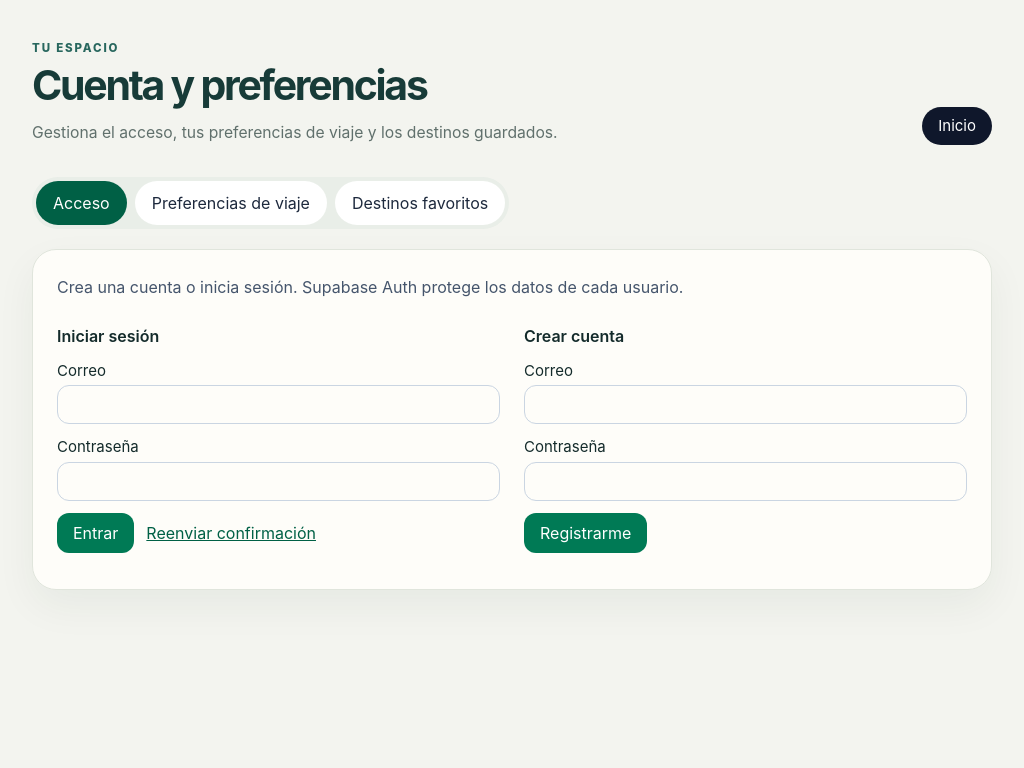
autenticación de Cuenta › mantiene formularios independientes y no revela el estado de una cuenta ante credenciales inválidas
Expected: the button "Preferencias de viaje" is shown, [135,181,327,225]
Expected: the button "Destinos favoritos" is shown, [335,181,505,225]
In the field labelled "Correo" below "Iniciar sesión": {"x": 278, "y": 405} [57,385,500,424], type "acceso@example.com"
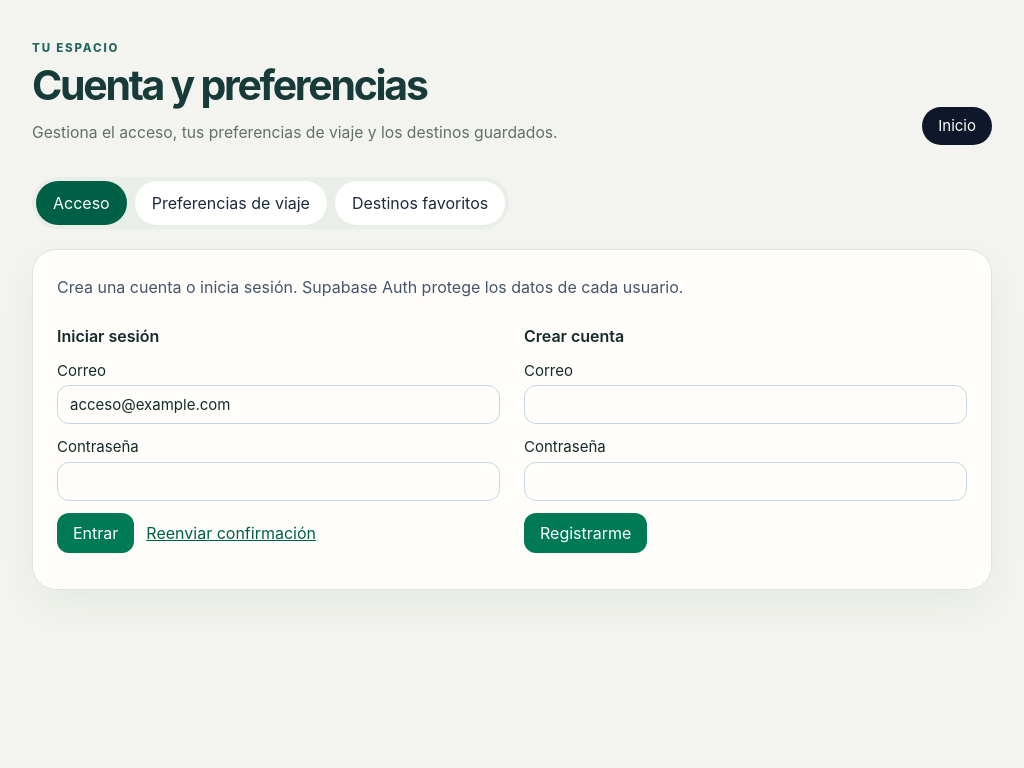
In the password field labelled "Contraseña" below "Iniciar sesión": {"x": 278, "y": 482} [57,462,500,501], type "clave-prueba-123"
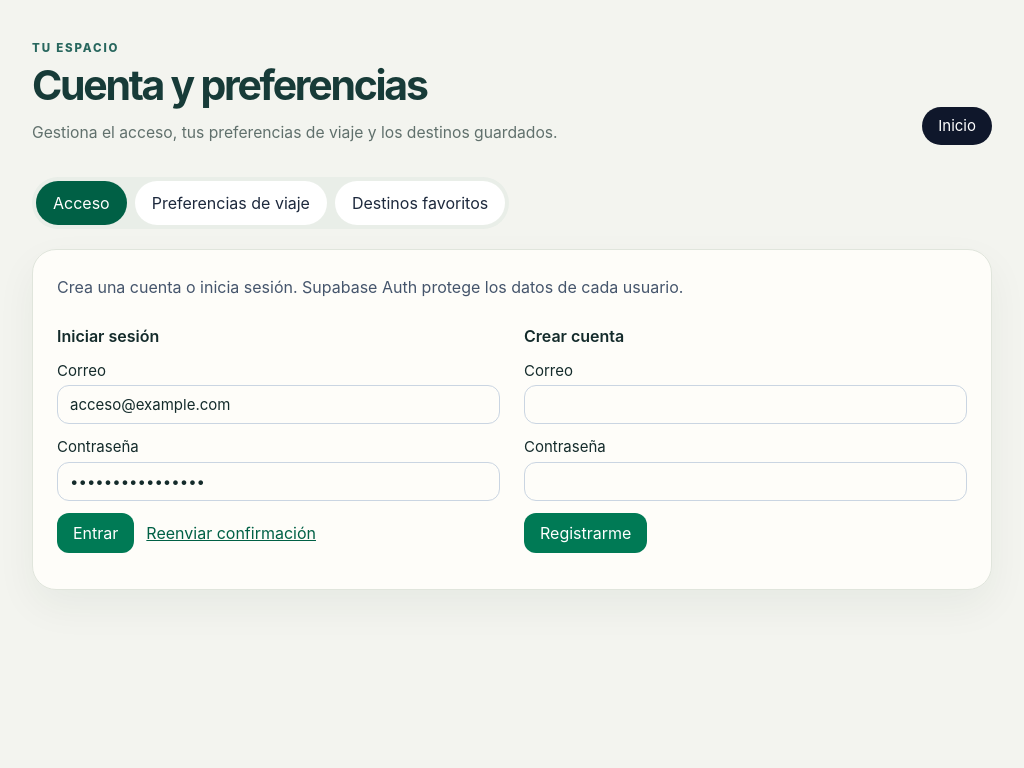
In the field labelled "Correo" below "Crear cuenta": {"x": 746, "y": 405} [524,385,967,424], type "registro@example.com"
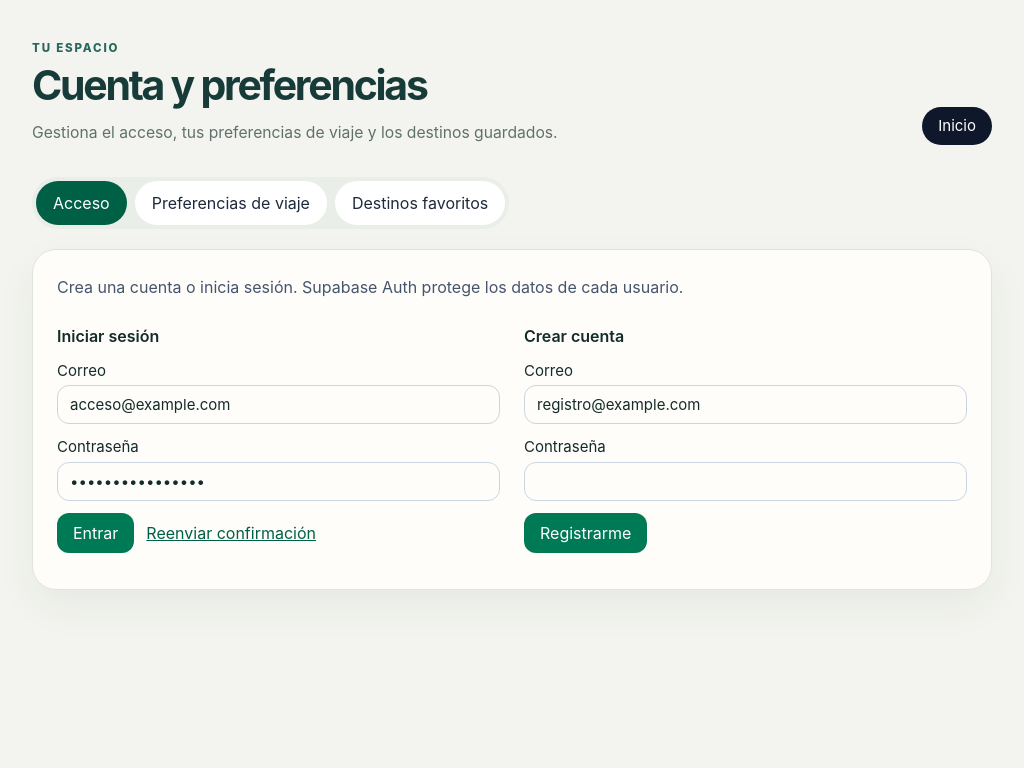
In the password field labelled "Contraseña" below "Crear cuenta": {"x": 746, "y": 482} [524,462,967,501], type "clave-prueba-123"
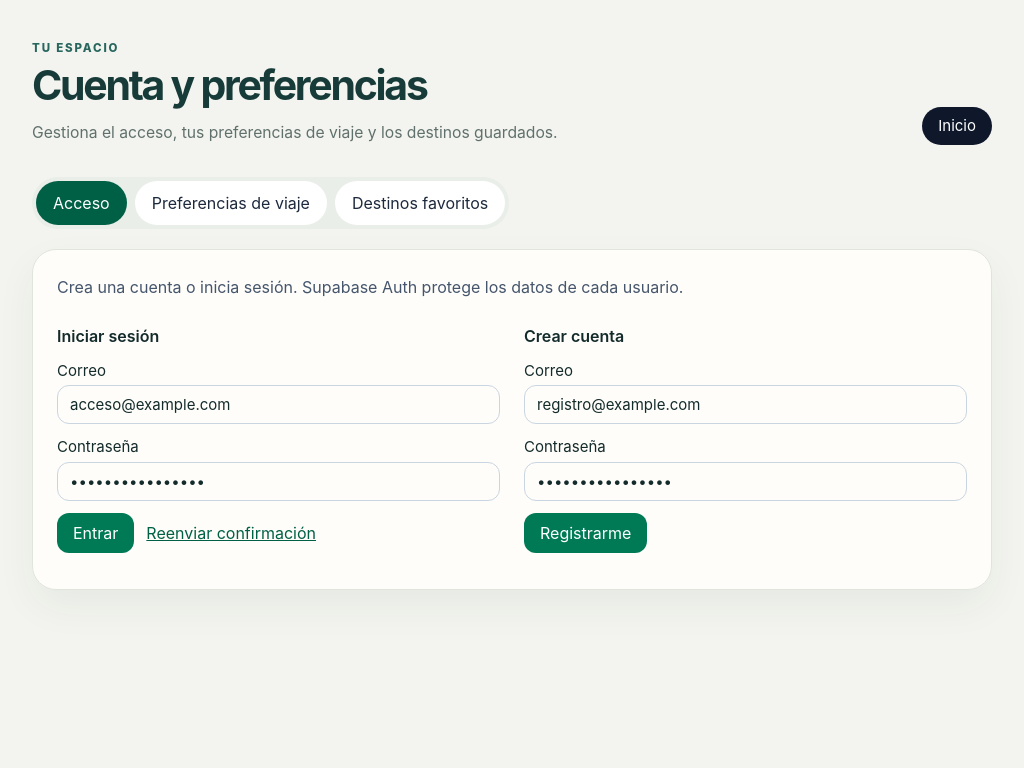
Click the button "Entrar": {"x": 96, "y": 533} [57,513,134,553]
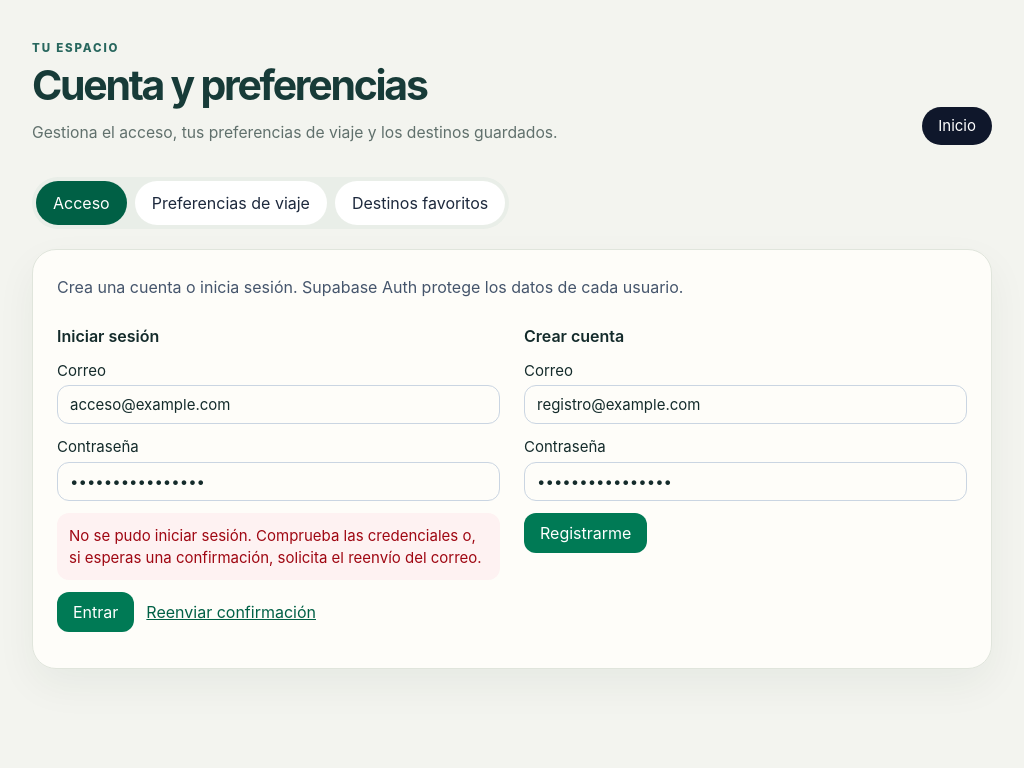
Expected: the message does not show "cuenta existe", [57,513,500,580]
Result: the message shows "No se pudo iniciar sesión" at [69,526,482,567]
Click the button "Registrarme": {"x": 586, "y": 533} [524,513,647,553]
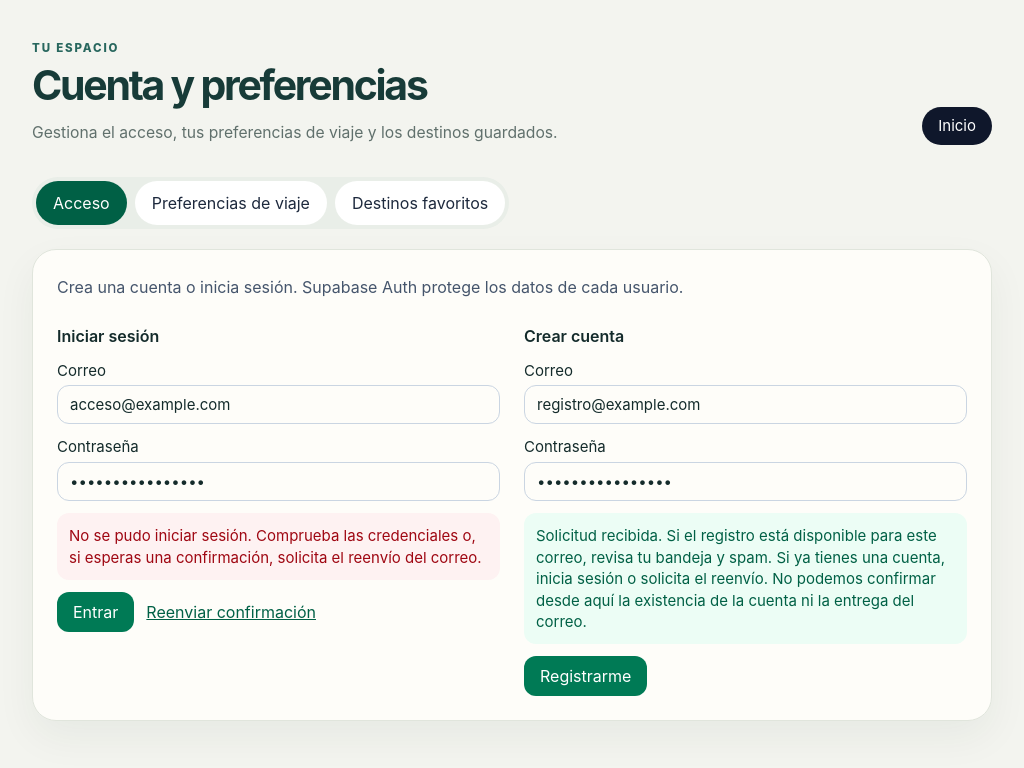
Expected: the 2nd message does not show "Cuenta creada", [524,513,967,644]
Result: the 1st message is shown at [57,513,500,580]
Result: the 2nd message shows "Solicitud recibida" at [536,526,945,631]
